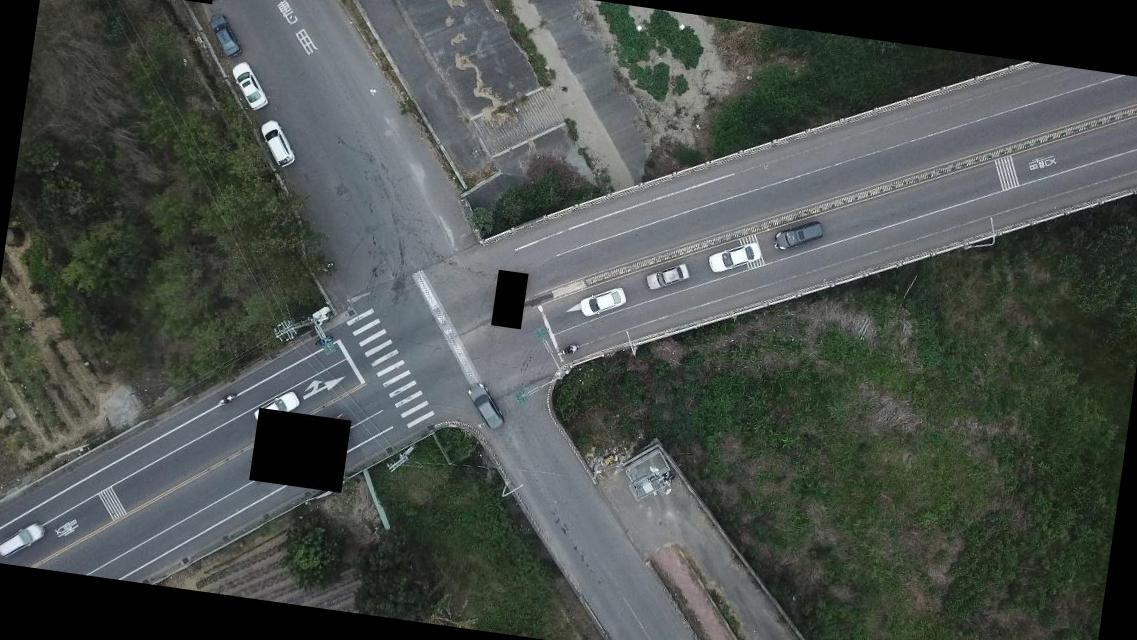vehicle: (462, 379, 510, 431), (226, 60, 272, 111), (706, 237, 762, 278), (772, 214, 826, 256), (254, 118, 298, 169), (202, 12, 247, 60), (253, 386, 300, 431), (0, 516, 44, 563), (578, 284, 629, 322), (642, 258, 691, 295)
